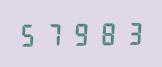eight: (93, 19, 117, 46)
five: (18, 21, 42, 47)
nine: (68, 20, 92, 46)
seven: (43, 20, 67, 47)
three: (118, 19, 142, 45)
